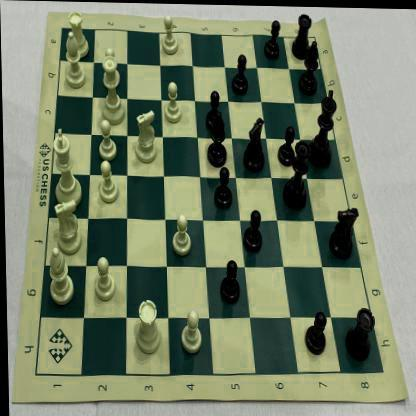black-bishop: (298, 40, 320, 95), (207, 110, 228, 164)
black-knight: (306, 86, 338, 166), (328, 202, 360, 260), (240, 116, 266, 174)
black-pawn: (303, 308, 326, 356), (218, 257, 240, 304), (210, 166, 232, 210), (242, 207, 262, 253), (276, 123, 295, 167), (204, 88, 223, 132), (230, 52, 249, 95), (262, 18, 281, 60)
black-queen: (285, 139, 308, 209)
black-rook: (344, 302, 376, 362), (290, 10, 314, 61)
white-bishop: (45, 246, 74, 306), (62, 30, 87, 90)
white-king: (51, 126, 82, 210)
white-knight: (133, 108, 158, 164)
white-pawn: (178, 308, 202, 354), (96, 158, 119, 204), (170, 208, 191, 256), (96, 119, 118, 162), (94, 257, 115, 300), (163, 80, 182, 124), (160, 13, 179, 56), (101, 46, 120, 86)
white-queen: (96, 54, 126, 126)
white-rook: (133, 297, 161, 355), (68, 11, 89, 60)
